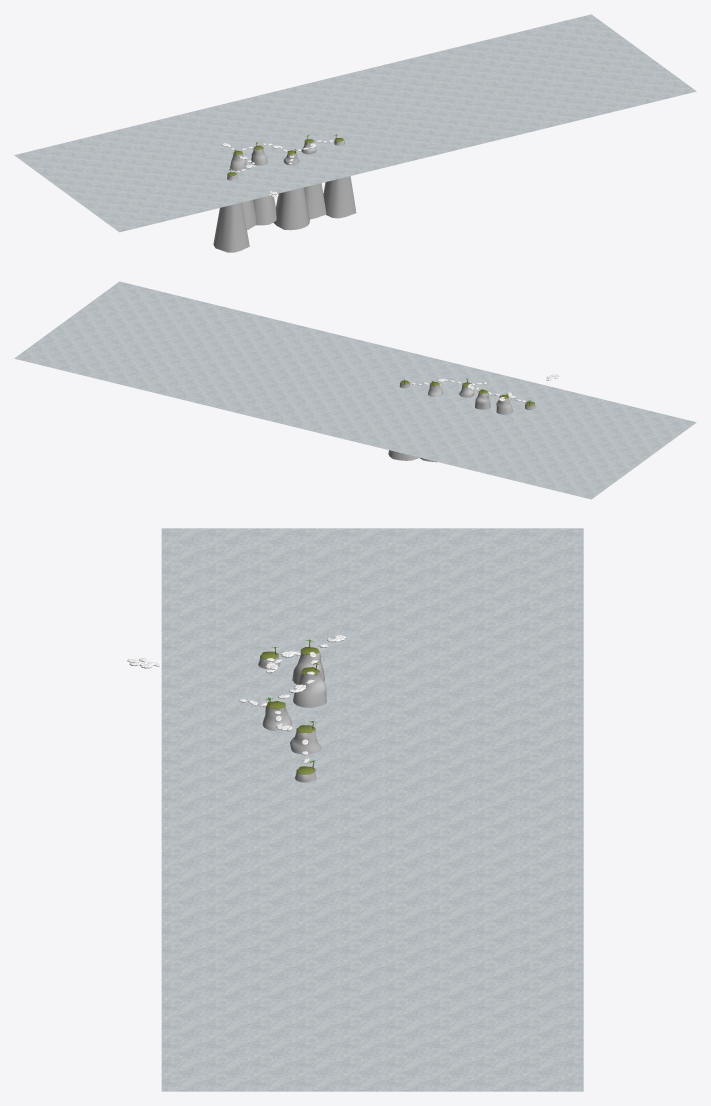
The model's file is wolken_1.fbx.
3 renders of one model, top to bottom at view 1: azimuth 30°, elevation 25°; view 2: azimuth 150°, elevation 25°; view 3: azimuth 270°, elevation 25°, orthographic. The views are drawn at different scales.
Visible parts, largest first — view 1: wolkendecke, Circle, Circle.003, Circle.005, Circle.002, Circle.004, Circle.001; view 2: wolkendecke; view 3: wolkendecke, Circle.002.
Boxes of the visible parts, box(x1,y1,x2,y2) form: wolkendecke: box(14, 14, 696, 232); Circle: box(213, 172, 249, 252); Circle.003: box(273, 150, 309, 230); Circle.005: box(323, 138, 356, 218); Circle.002: box(251, 145, 276, 225); Circle.004: box(301, 139, 326, 219); Circle.001: box(230, 150, 255, 229); wolkendecke: box(14, 281, 696, 499); wolkendecke: box(161, 528, 583, 1091); Circle.002: box(293, 667, 326, 707).
Bounding box in the file's own units: 148687 × 21142 × 50866.
